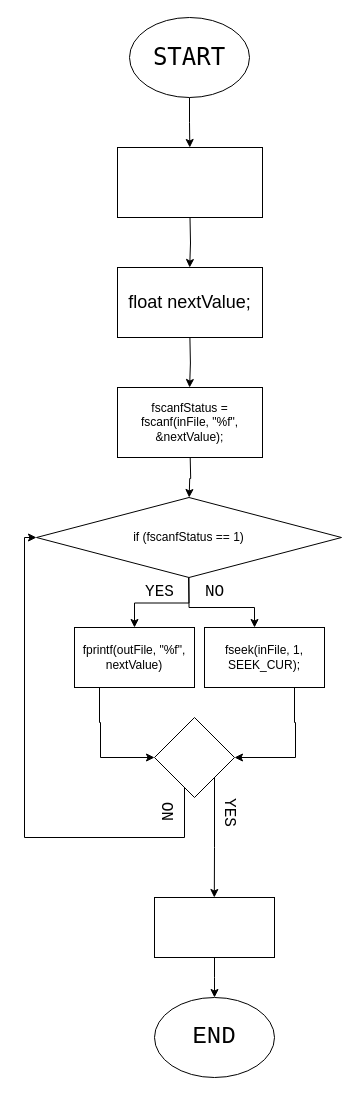
This 359x1095 diagram has some shape labels left out. Here are the shapes that lost their labels. From the top down, the box of each, then its label:
(116, 146, 262, 218): FILE *inFile; FILE *outFile;
(154, 716, 234, 798): feof(inFile) ?
(154, 896, 274, 958): fclose(inFile); fclose(outFile);
